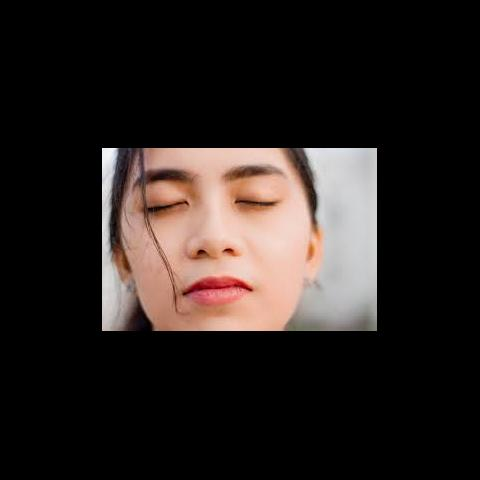closed: (120, 162, 304, 222)
